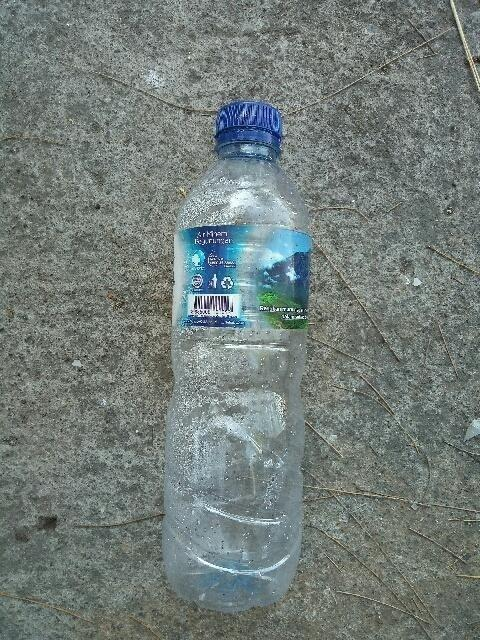bottle-plastic: (152, 95, 319, 619)
